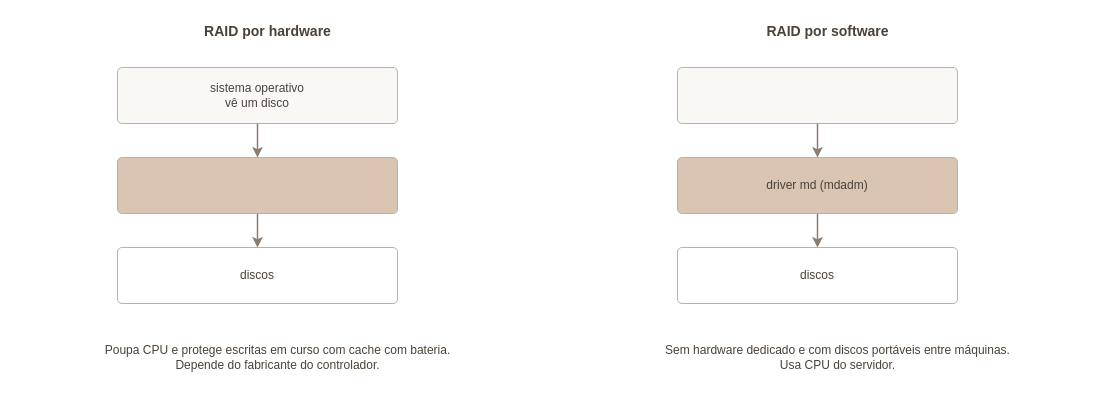
Image size: 1114x404. Some labels were removed from this diagram. Here are the shapes that lost their labels. From the top down, the box of each, then its label:
(676, 66, 958, 124): sistema operativo
(116, 156, 398, 214): controlador RAID cache com bateria
